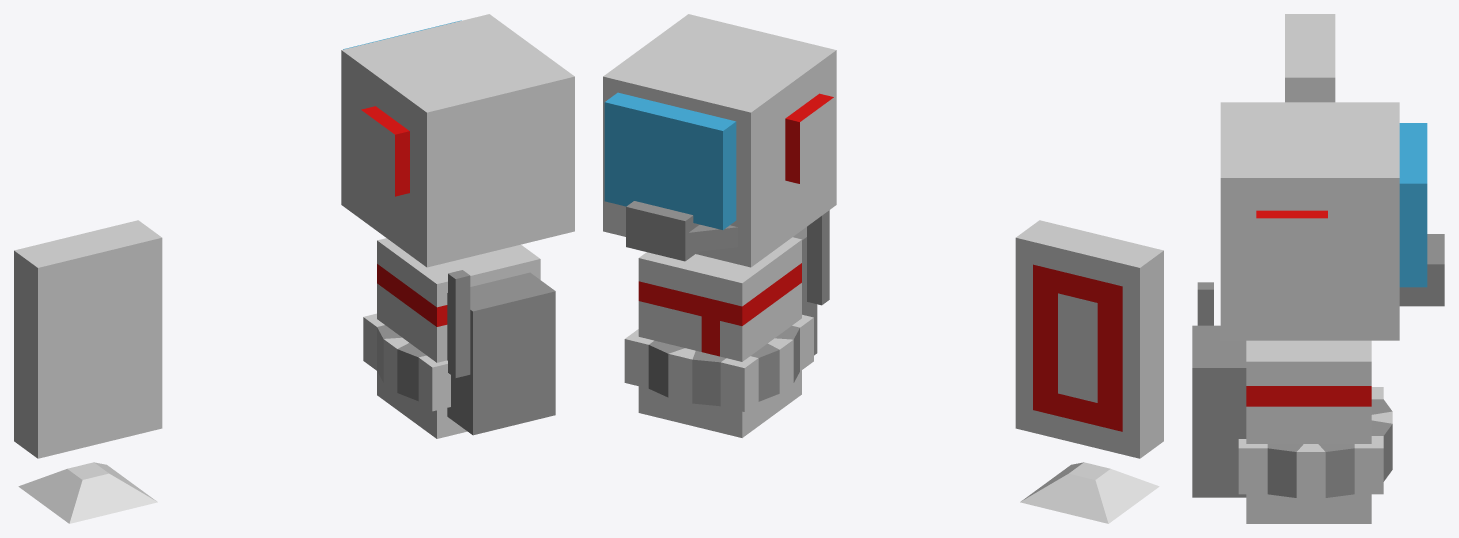
Rendered from Soldier.fbx.
The picture shows the model from 3 angles, left to right: view 1: azimuth 30°, elevation 25°; view 2: azimuth 150°, elevation 25°; view 3: azimuth 270°, elevation 25°; orthographic projection. The views are drawn at different scales.
Visible parts, largest first — view 1: Head, DummyTop, Body, DummyBottom, Explosives; view 2: Head, DummyTop, Body, Explosives, DummyBottom; view 3: Head, Body, Explosives, DummyTop.
Boxes of the visible parts, x1,y1,x2,y2 form: Head: [341, 14, 574, 267]; DummyTop: [14, 220, 162, 458]; Body: [377, 238, 555, 438]; DummyBottom: [18, 462, 157, 523]; Explosives: [363, 313, 450, 411]; Head: [603, 14, 836, 267]; DummyTop: [1015, 220, 1163, 458]; Body: [638, 210, 829, 437]; Explosives: [624, 314, 813, 411]; DummyBottom: [1020, 462, 1159, 523]; Head: [1220, 102, 1444, 340]; Body: [1192, 282, 1371, 523]; Explosives: [1238, 387, 1392, 497]; DummyTop: [1285, 14, 1335, 102].
Bounding box in the file's own units: 704 × 440 × 281.
